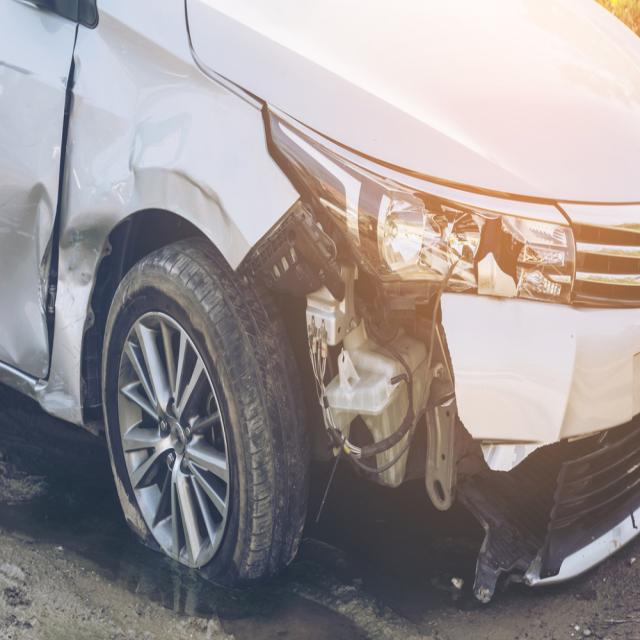dent: (56, 52, 232, 349), (0, 185, 53, 362)
lamp broken: (262, 105, 576, 305)
scratch: (38, 371, 77, 416)
